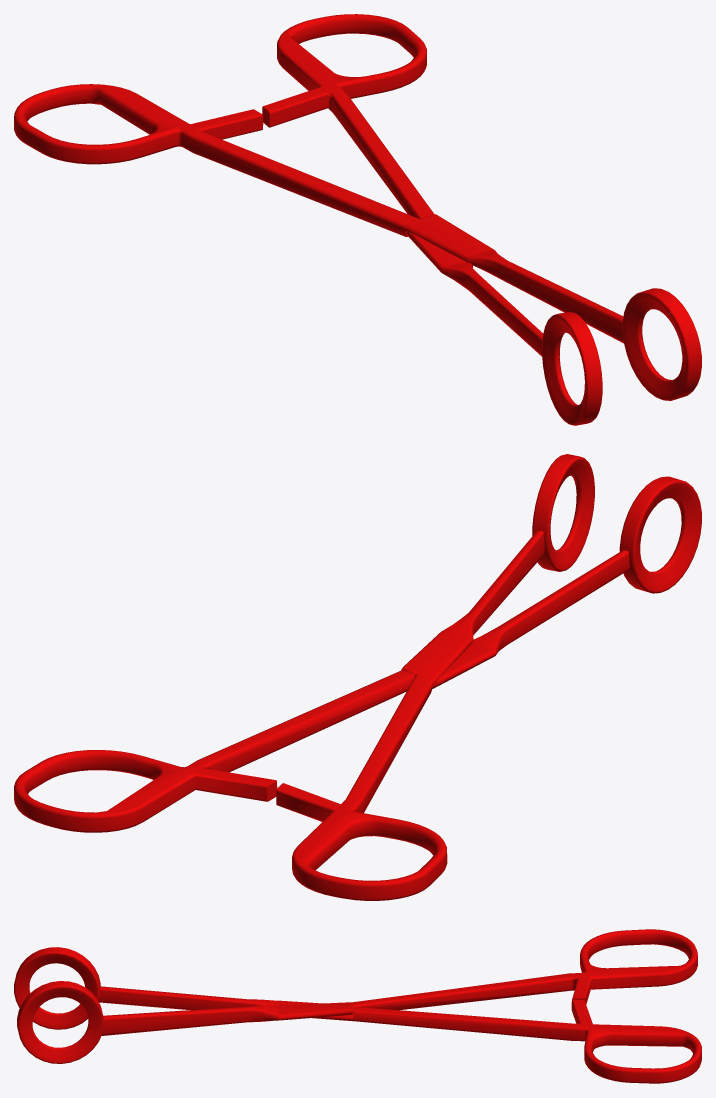
Rendered from Medical_instrument_11.fbx.
The picture shows the model from 3 angles, top to bottom: view 1: azimuth 30°, elevation 25°; view 2: azimuth 150°, elevation 25°; view 3: azimuth 270°, elevation 25°; orthographic projection. The views are drawn at different scales.
Parts seen in each view (by area): view 1: L41:polySurface1426; view 2: L41:polySurface1426; view 3: L41:polySurface1426.
Boxes of the visible parts, x1=… form: L41:polySurface1426: x1=14, y1=14, x2=701, y2=425; L41:polySurface1426: x1=14, y1=454, x2=701, y2=900; L41:polySurface1426: x1=14, y1=929, x2=701, y2=1083.
Bounding box in the file's own units: 16.17 × 4.1 × 32.43.
